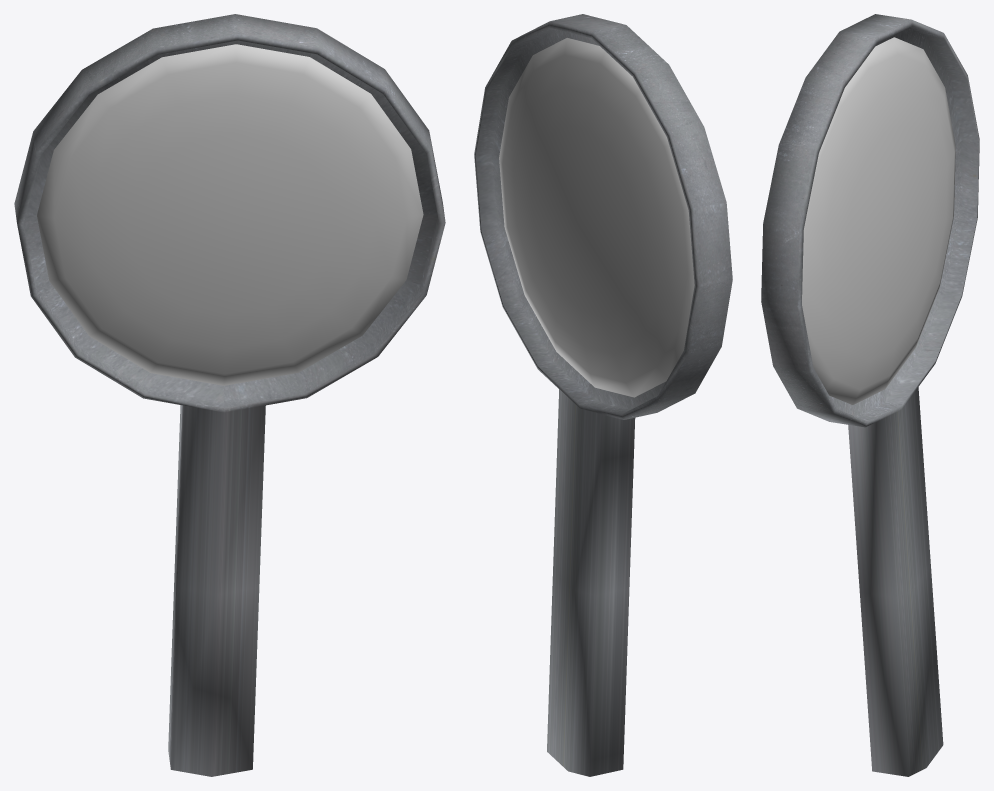
File: Mag_Glass.fbx
The picture shows the model from 3 angles, left to right: view 1: azimuth 30°, elevation 25°; view 2: azimuth 150°, elevation 25°; view 3: azimuth 270°, elevation 25°; orthographic projection. The views are drawn at different scales.
Parts seen in each view (by area): view 1: Mag_Glass.001; view 2: Mag_Glass.001; view 3: Mag_Glass.001.
Boxes of the visible parts, x1,y1,x2,y2 form: Mag_Glass.001: (14, 14, 445, 776); Mag_Glass.001: (474, 14, 732, 776); Mag_Glass.001: (761, 14, 979, 776).
Size of the model in its own units: 12.34 by 25.78 by 6.97.
